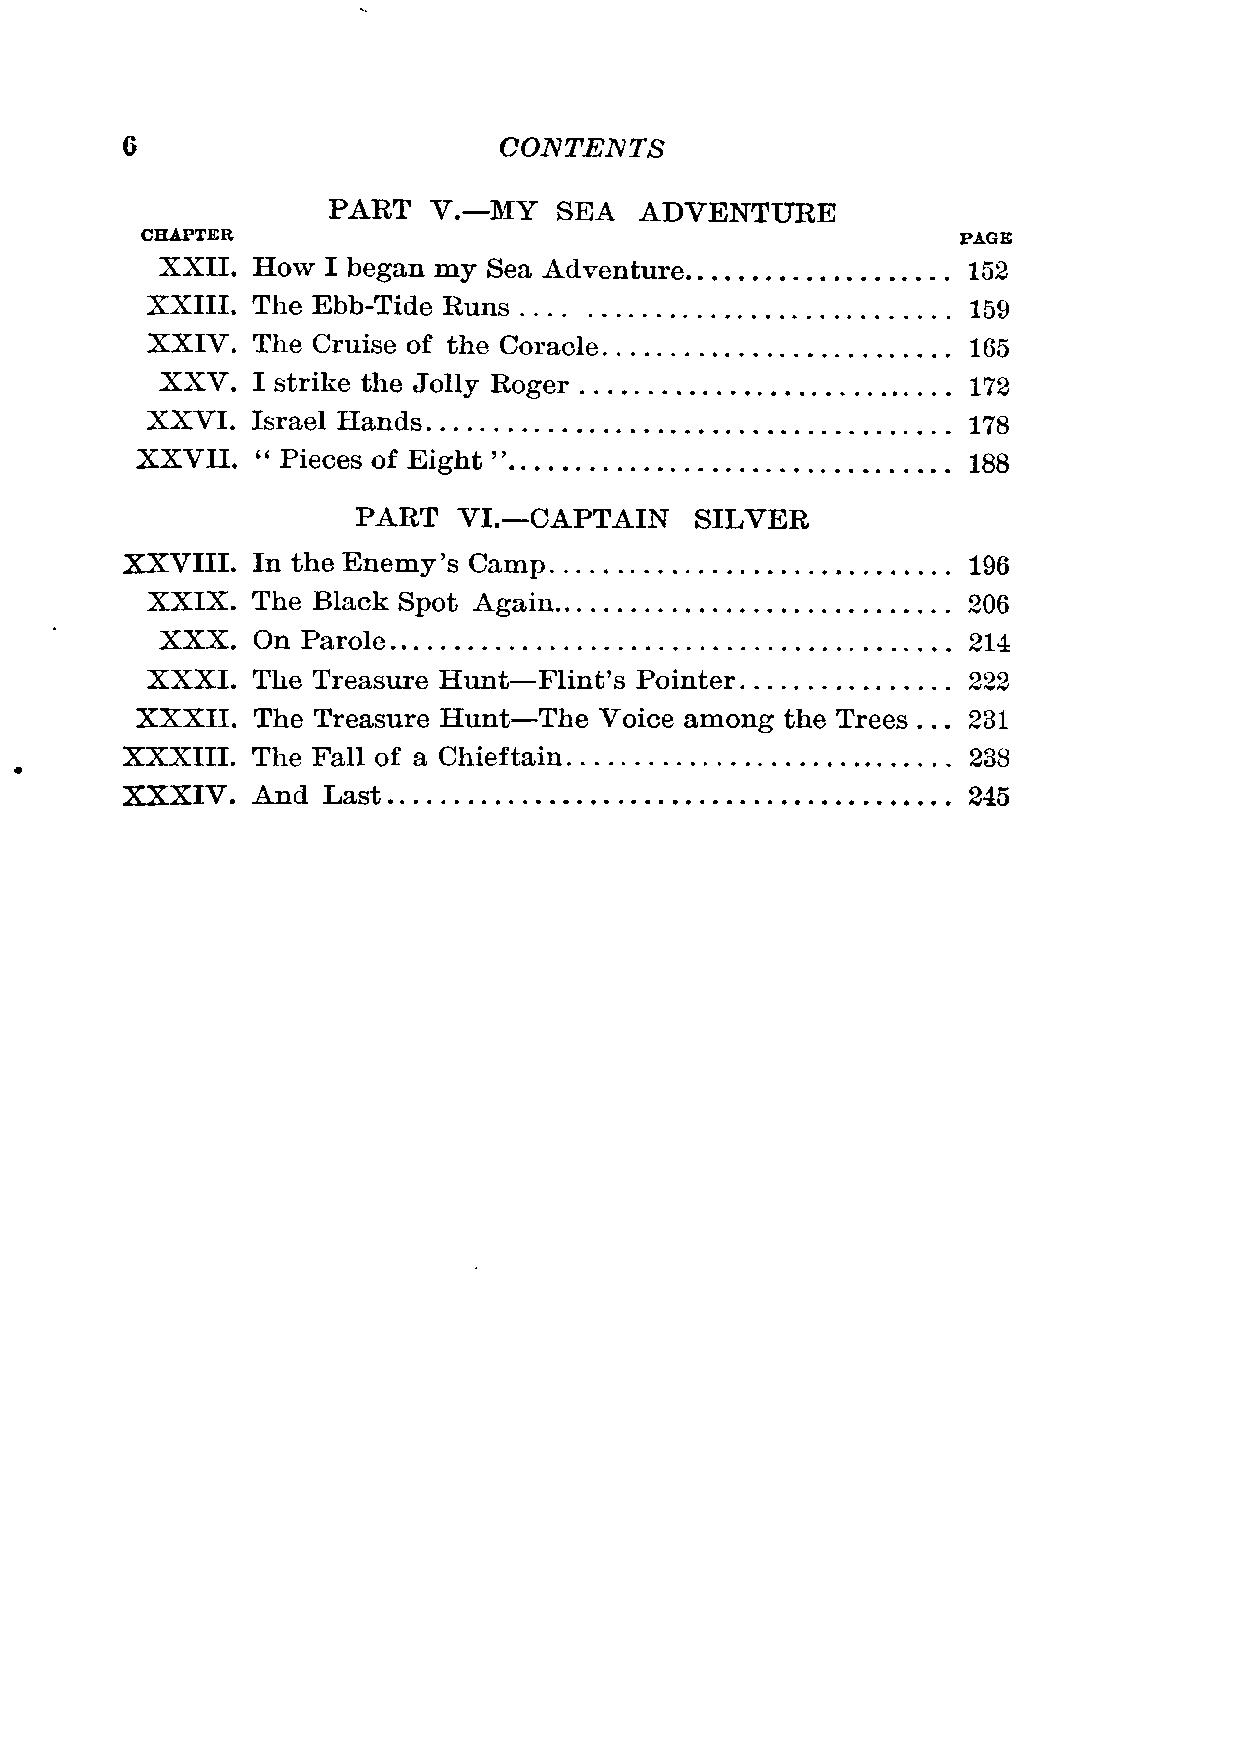TOC_chapter: (132, 703, 910, 737), (326, 191, 841, 234), (153, 246, 690, 285), (148, 663, 739, 697), (356, 501, 813, 538), (145, 327, 605, 362), (154, 366, 573, 403), (118, 544, 552, 578), (118, 741, 566, 774), (144, 585, 558, 621), (133, 439, 506, 478), (140, 289, 514, 322), (134, 405, 425, 437), (117, 778, 386, 812), (152, 625, 384, 658)
TOC_pagenumber: (964, 586, 1015, 619), (966, 780, 1012, 815), (964, 293, 1013, 322), (965, 550, 1011, 581), (968, 666, 1012, 695), (965, 628, 1011, 656), (964, 743, 1016, 768), (968, 333, 1015, 360), (966, 706, 1011, 734), (965, 413, 1013, 437), (964, 258, 1015, 280), (968, 370, 1011, 397), (964, 450, 1011, 474)
chapter: (493, 129, 671, 165)
